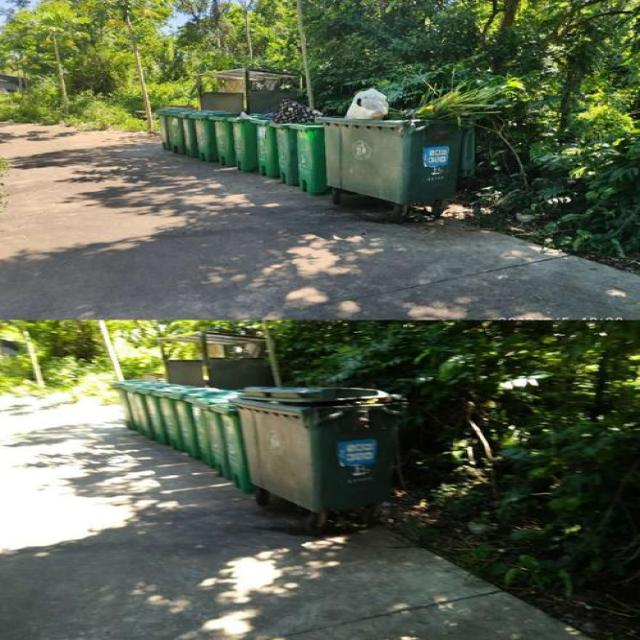garbage_bin: (230, 384, 404, 508), (197, 390, 251, 490), (183, 388, 230, 462), (248, 116, 278, 176)
overflow: (319, 88, 461, 205), (291, 101, 329, 194), (270, 99, 297, 182)
